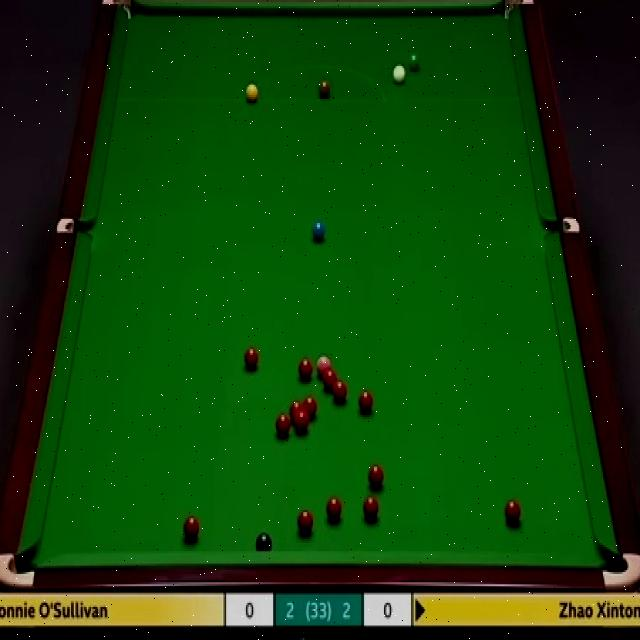black-ball: (258, 532, 276, 551)
blue-ball: (311, 222, 326, 239)
brown-ball: (318, 80, 332, 103)
green-ball: (408, 51, 421, 67)
pink-ball: (317, 355, 331, 375)
red-ball: (326, 493, 342, 522), (302, 395, 319, 422), (182, 515, 200, 540), (368, 463, 384, 491), (297, 509, 314, 535), (274, 413, 291, 438), (504, 498, 521, 523), (364, 496, 379, 520), (244, 346, 258, 371), (295, 412, 309, 434), (322, 368, 337, 388), (333, 382, 346, 404), (297, 358, 311, 378), (358, 392, 373, 410), (290, 402, 304, 421)
white-ball: (390, 65, 408, 84)
yellow-ball: (246, 82, 258, 104)
